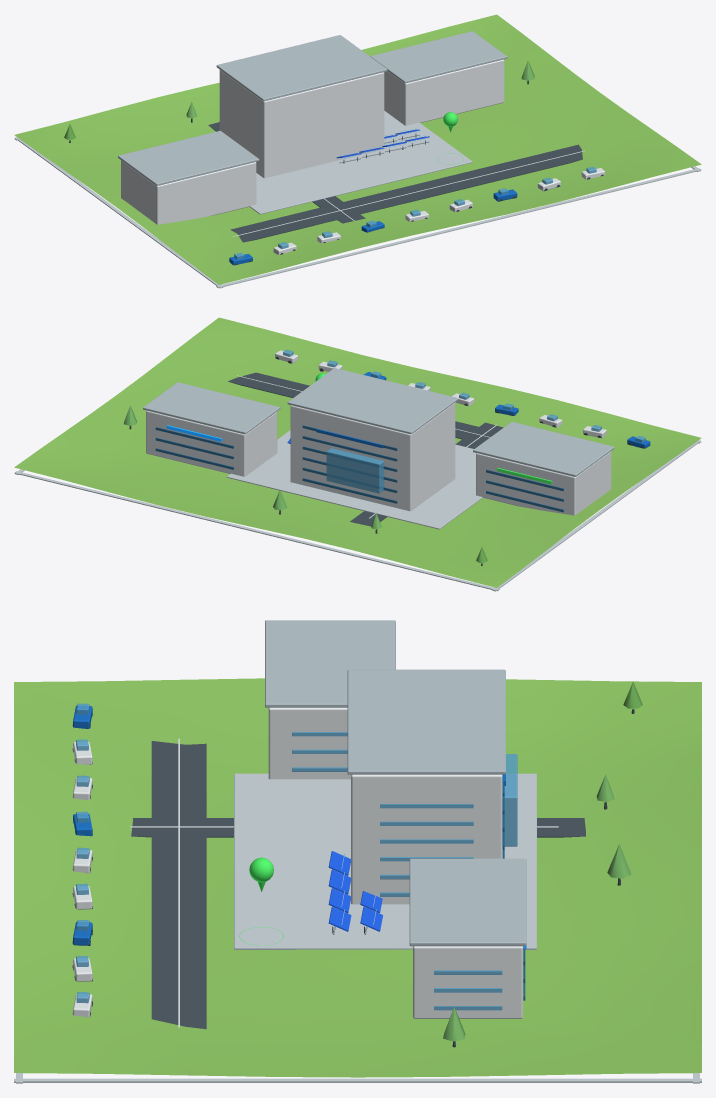
Rendered from hq-campus.glb.
3 views of the same model, one above another, from view 1: azimuth 30°, elevation 25°; view 2: azimuth 150°, elevation 25°; view 3: azimuth 270°, elevation 25° (orthographic). The views are drawn at different scales.
Parts seen in each view (by area): view 1: hq campus area terrain surface, RunJian main office tower white mass, hq central plaza slab, RunJian main office tower roof cap, hq entry avenue asphalt, RunJian west office wing white mass, RunJian east lab wing white mass, RunJian west office wing roof cap, RunJian east lab wing roof cap, hq campus area concrete border south, hq campus area concrete border west, hq plaza dropoff asphalt (+1 smaller); view 2: hq campus area terrain surface, RunJian main office tower white mass, RunJian main office tower roof cap, hq central plaza slab, RunJian east lab wing white mass, RunJian west office wing white mass, RunJian west office wing roof cap, RunJian east lab wing roof cap, front glass atrium cube, hq campus area concrete border north, hq entry avenue asphalt, hq campus area concrete border west (+1 smaller); view 3: hq campus area terrain surface, hq central plaza slab, RunJian main office tower roof cap, RunJian main office tower white mass, hq entry avenue asphalt, RunJian east lab wing roof cap, RunJian west office wing roof cap, RunJian east lab wing white mass, RunJian west office wing white mass, hq campus area concrete border east, hq plaza dropoff asphalt, front glass atrium cube.
Part boxes in pixels (x1,y1,x2,y2): hq campus area terrain surface: (14, 14, 701, 284); RunJian main office tower white mass: (219, 70, 384, 178); hq central plaza slab: (249, 111, 472, 214); RunJian main office tower roof cap: (216, 35, 387, 101); hq entry avenue asphalt: (230, 144, 582, 242); RunJian west office wing white mass: (121, 160, 256, 224); RunJian east lab wing white mass: (384, 59, 504, 125); RunJian west office wing roof cap: (118, 130, 259, 185); RunJian east lab wing roof cap: (370, 31, 507, 83); hq campus area concrete border south: (216, 168, 701, 288); hq campus area concrete border west: (15, 137, 223, 288); hq plaza dropoff asphalt: (208, 122, 365, 223); hq campus area terrain surface: (14, 317, 701, 587); RunJian main office tower white mass: (290, 403, 455, 511); RunJian main office tower roof cap: (287, 368, 458, 434); hq central plaza slab: (226, 430, 482, 529); RunJian east lab wing white mass: (146, 410, 277, 476); RunJian west office wing white mass: (476, 451, 611, 515); RunJian west office wing roof cap: (473, 422, 614, 476); RunJian east lab wing roof cap: (143, 382, 280, 434); front glass atrium cube: (326, 448, 384, 493); hq campus area concrete border north: (14, 471, 499, 591); hq entry avenue asphalt: (228, 372, 497, 441); hq campus area concrete border west: (492, 440, 700, 591); hq campus area terrain surface: (14, 678, 701, 1077); hq central plaza slab: (234, 773, 536, 949); RunJian main office tower roof cap: (347, 669, 505, 774); RunJian main office tower white mass: (351, 774, 502, 904); hq entry avenue asphalt: (151, 741, 206, 1029); RunJian east lab wing roof cap: (409, 858, 526, 946); RunJian west office wing roof cap: (265, 620, 395, 707); RunJian east lab wing white mass: (413, 946, 522, 1018); RunJian west office wing white mass: (268, 707, 350, 779); hq campus area concrete border east: (14, 1078, 701, 1082); hq plaza dropoff asphalt: (131, 818, 585, 837); front glass atrium cube: (502, 754, 517, 846).
Bounding box in the file's own units: 68 × 11.25 × 50.
